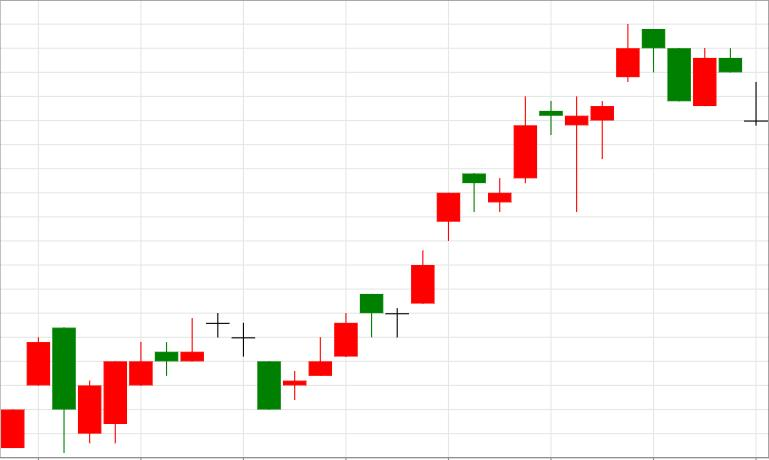evening_star_fall: (488, 24, 691, 215)
